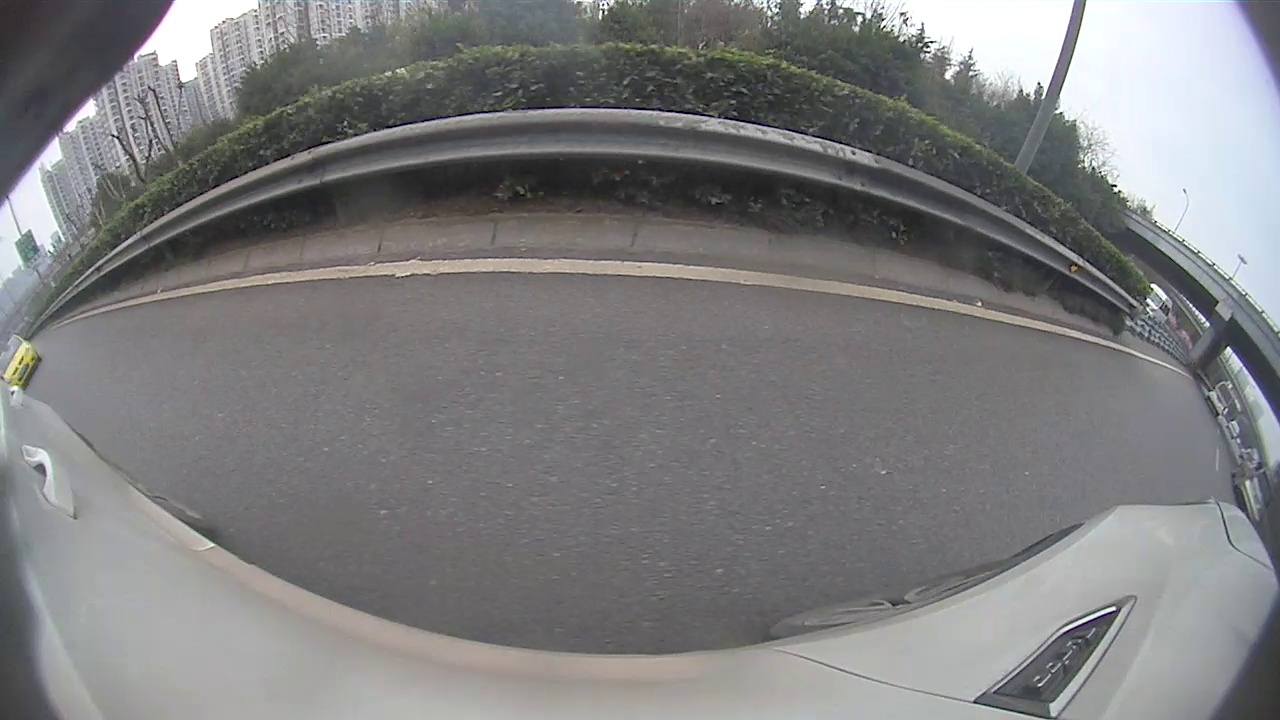car: (1233, 459, 1271, 525), (1, 335, 41, 393), (1208, 380, 1234, 419)
